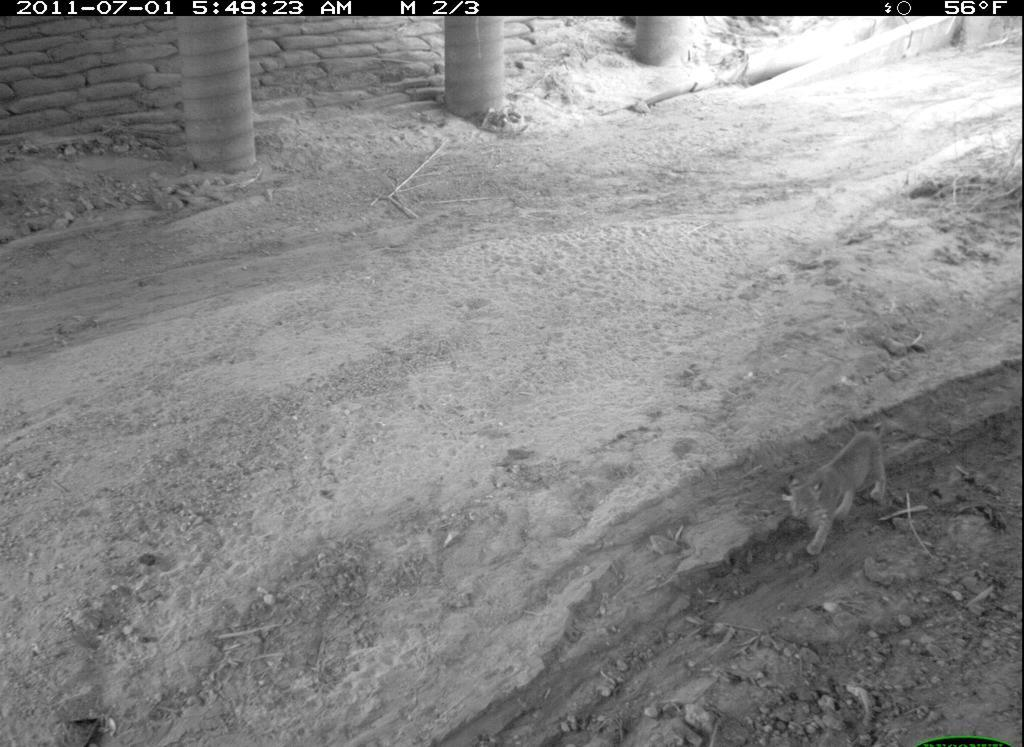bobcat: (779, 424, 888, 554)
